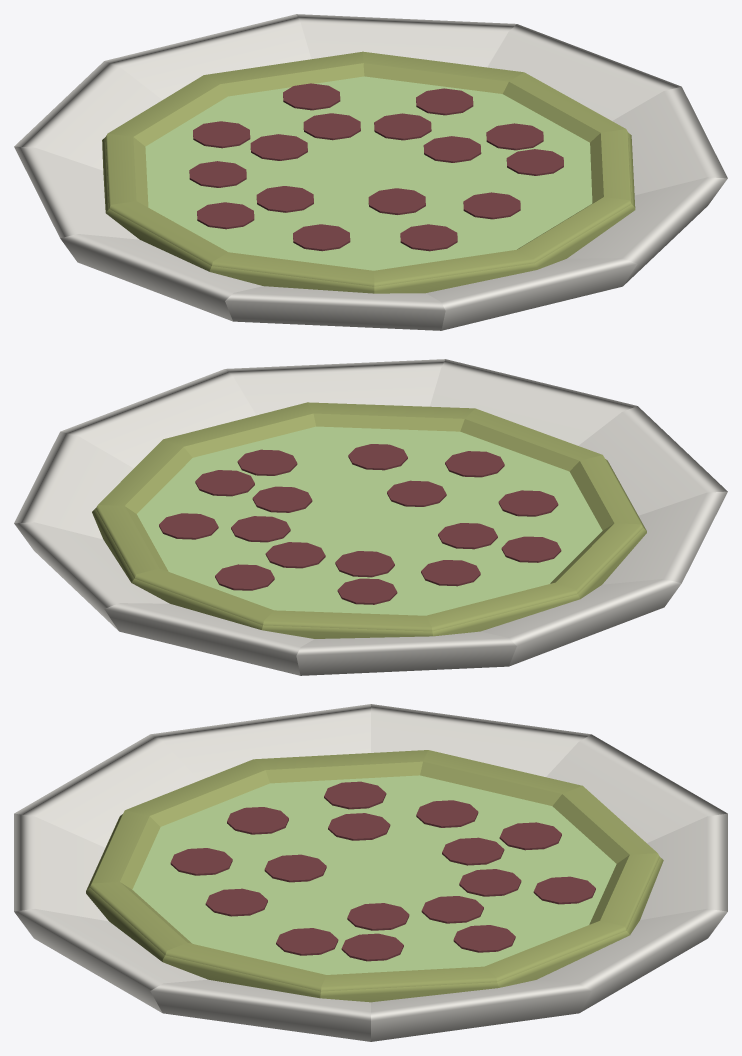
Rendered from PizzaInPlateRotten.fbx.
3 views of the same model, one above another, from view 1: azimuth 30°, elevation 25°; view 2: azimuth 150°, elevation 25°; view 3: azimuth 270°, elevation 25° (orthographic). The views are drawn at different scales.
Visible parts, largest first — view 1: Pizza, Plate, Pepperoni10, Pepperoni, Pepperoni8, Pepperoni14, Pepperoni3, Pepperoni6, Pepperoni11, Pepperoni2, Pepperoni5, Pepperoni13 (+6 smaller); view 2: Pizza, Plate, Pepperoni1, Pepperoni2, Pepperoni6, Pepperoni3, Pepperoni4, Pepperoni12, Pepperoni7, Pepperoni, Pepperoni14, Pepperoni5 (+6 smaller); view 3: Pizza, Plate, Pepperoni2, Pepperoni3, Pepperoni6, Pepperoni8, Pepperoni10, Pepperoni15, Pepperoni9, Pepperoni11, Pepperoni12, Pepperoni (+6 smaller).
Part boxes in pixels (x1,y1,x2,y2): Pizza: (102,51,635,293); Plate: (14,14,727,330); Pepperoni10: (463,192,520,219); Pepperoni: (400,224,457,251); Pepperoni8: (486,123,543,150); Pepperoni14: (374,113,431,140); Pepperoni3: (189,161,246,187); Pepperoni6: (303,113,360,140); Pepperoni11: (368,188,425,214); Pepperoni2: (197,202,254,229); Pepperoni5: (283,83,340,110); Pepperoni13: (250,134,307,160); Pizza: (92,402,646,638); Plate: (14,359,727,675); Pepperoni1: (498,490,558,516); Pepperoni2: (501,536,561,562); Pepperoni6: (265,542,325,568); Pepperoni3: (421,560,480,586); Pepperoni4: (337,578,397,604); Pepperoni12: (438,523,497,549); Pepperoni7: (159,513,218,539); Pepperoni: (445,451,504,477); Pepperoni14: (231,516,290,542); Pepperoni5: (215,564,274,590); Pizza: (86,750,663,1002); Plate: (14,704,727,1041); Pepperoni2: (324,781,386,809); Pepperoni3: (416,800,478,827); Pepperoni6: (459,869,521,896); Pepperoni8: (341,933,403,961); Pepperoni10: (205,888,267,916); Pepperoni15: (347,903,409,930); Pepperoni9: (276,928,338,955); Pepperoni11: (264,854,326,882); Pepperoni12: (328,813,390,840); Pepperoni: (170,848,232,875).
Size of the model in its own units: 0.3356 by 0.0314 by 0.3192.
